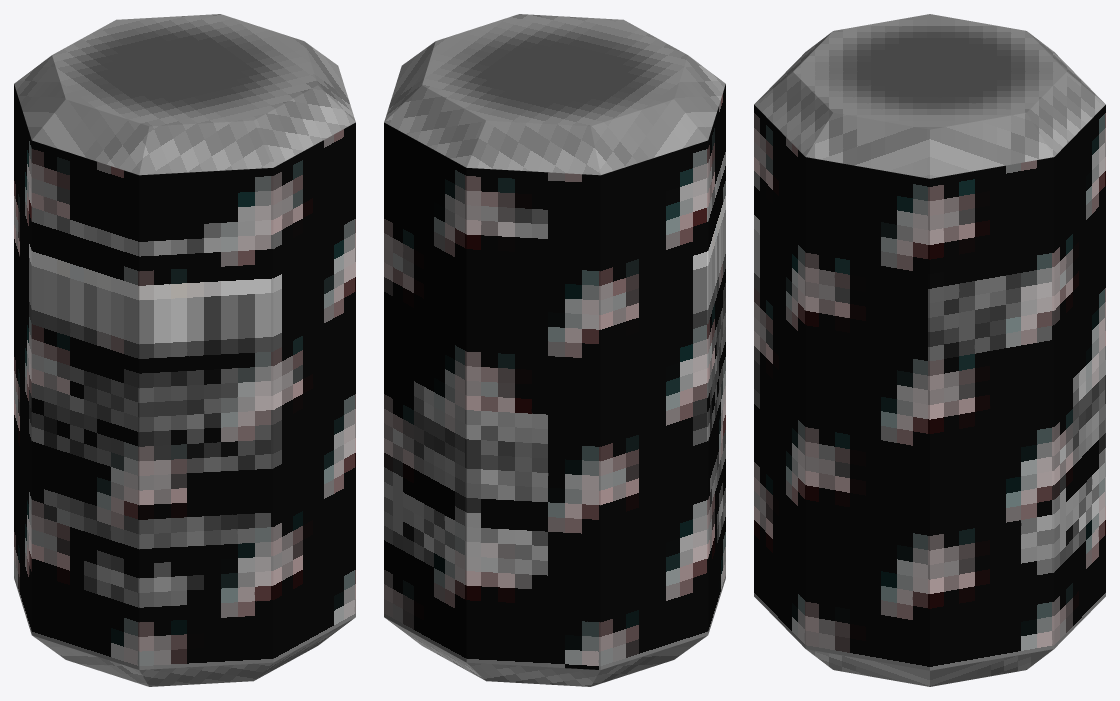
The model's file is CanReversed.fbx.
3 renders of one model, left to right at view 1: azimuth 30°, elevation 25°; view 2: azimuth 150°, elevation 25°; view 3: azimuth 270°, elevation 25°, orthographic.
Visible parts, largest first — view 1: Can; view 2: Can; view 3: Can.
Part boxes in pixels (x1,y1,x2,y2): Can: (14,14,355,686); Can: (384,14,725,686); Can: (754,14,1105,686).
Bounding box in the file's own units: 2 × 3.5 × 2.
